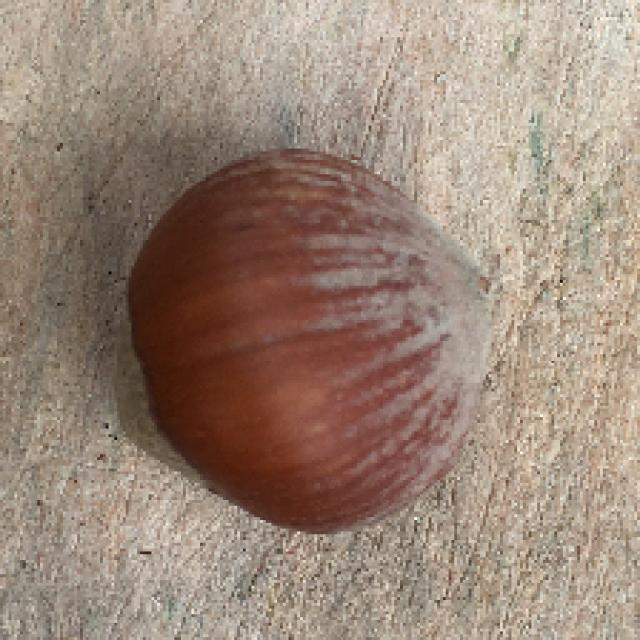QualityHazelnut: (114, 145, 503, 535)
